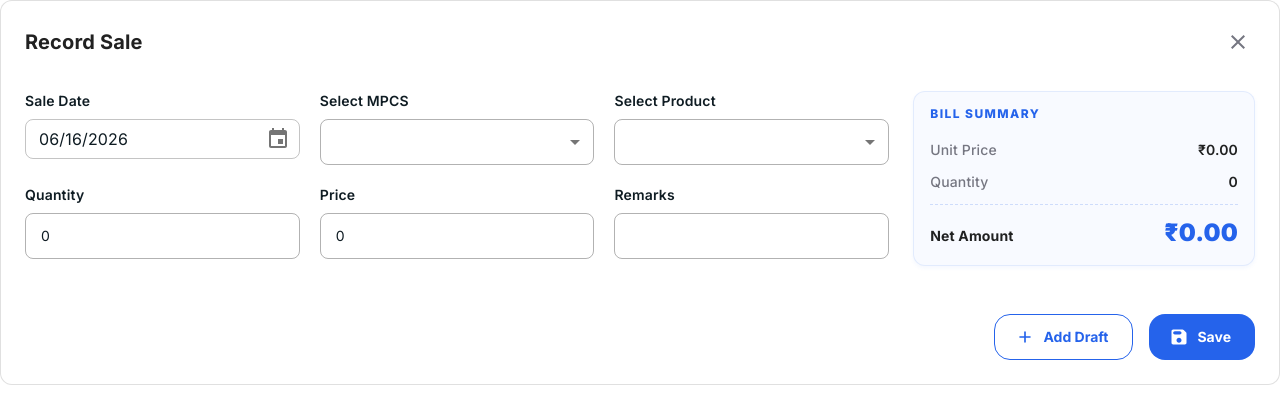
ProductSaleForm › auto-populates price when product is selected
Press the mouse on the dropdown below "Select Product" at (752, 142), box [626,119,877,165]
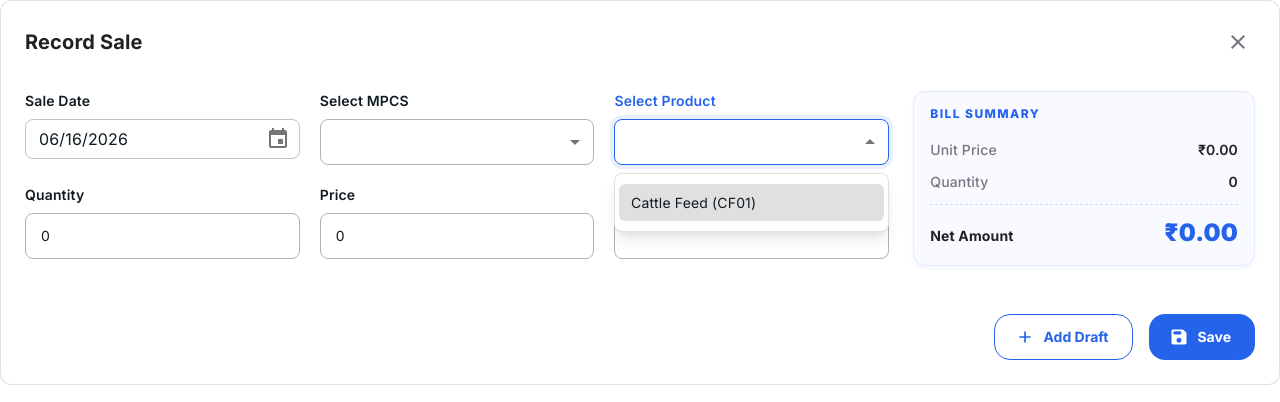
Click the option "Cattle Feed (CF01)" at (752, 202), box [619,184,884,221]
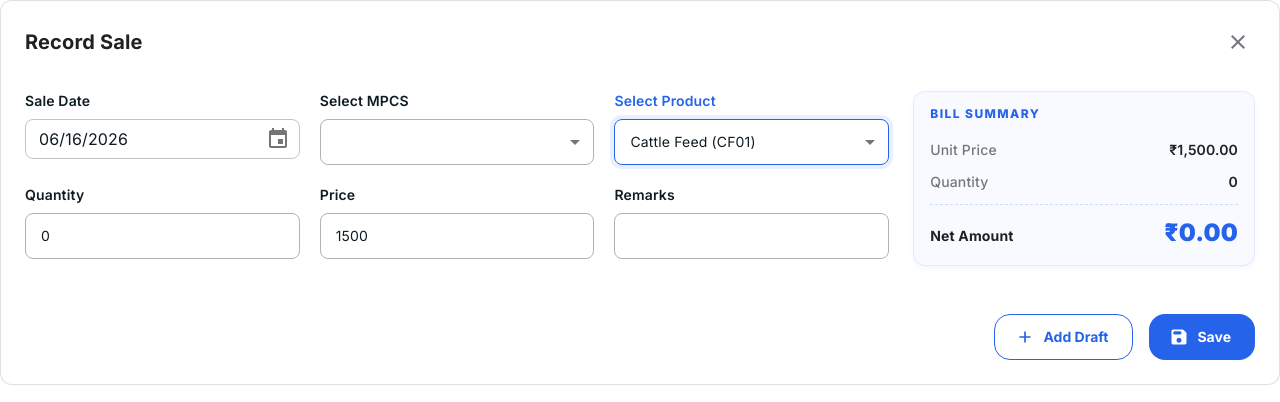
Result: the 2nd number field named "price" holds "1500" at [332,213,582,259]
